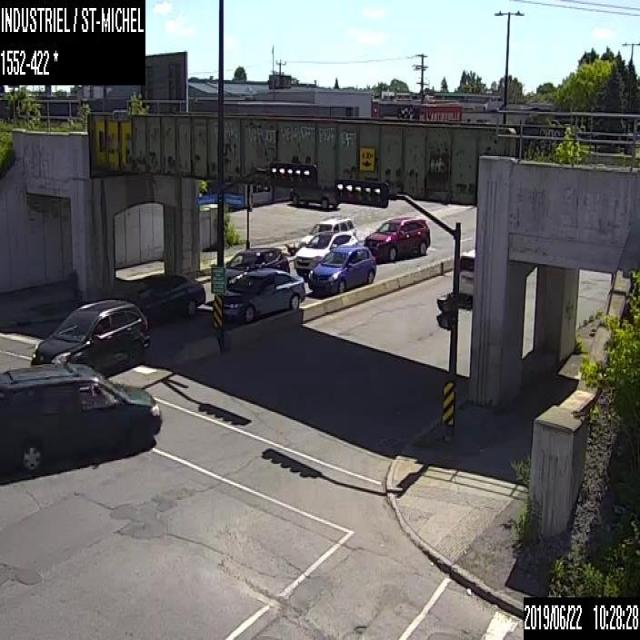vehicle: (0, 365, 161, 472), (30, 299, 148, 370), (224, 267, 303, 323), (121, 274, 204, 321), (308, 246, 376, 292), (362, 217, 430, 259), (294, 232, 358, 276), (223, 245, 289, 287), (299, 215, 355, 248), (290, 188, 340, 208), (457, 247, 475, 297)
